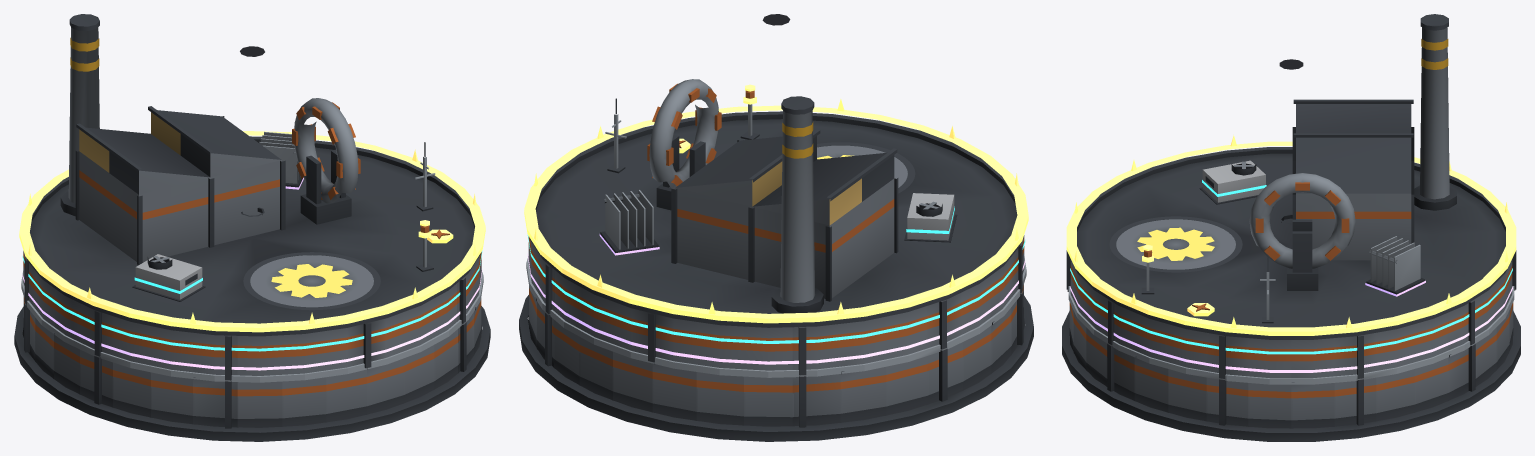
Rendered from magnet_works_s_far.glb.
3 views of the same model, side by side, from view 1: azimuth 30°, elevation 25°; view 2: azimuth 150°, elevation 25°; view 3: azimuth 270°, elevation 25° (orthographic). The views are drawn at different scales.
Visible parts, largest first — view 1: Roof, Base, L5, L3, L2, L4; view 2: Roof, Base, L5, L4, L2, L3; view 3: Roof, Base, L5, L4, L3, L2.
Boxes of the visible parts, left/top/right/bottom form: Roof: left=23, top=14, right=481, bottom=380; Base: left=14, top=296, right=490, bottom=441; L5: left=19, top=131, right=485, bottom=332; L3: left=22, top=207, right=482, bottom=351; L2: left=21, top=142, right=483, bottom=382; L4: left=22, top=131, right=482, bottom=370; Roof: left=528, top=14, right=1024, bottom=375; Base: left=519, top=284, right=1033, bottom=441; L5: left=524, top=84, right=1028, bottom=323; L4: left=527, top=190, right=1025, bottom=364; L2: left=526, top=98, right=1026, bottom=377; L3: left=527, top=193, right=1025, bottom=343; Roof: left=1066, top=14, right=1516, bottom=378; Base: left=1062, top=289, right=1520, bottom=441; L5: left=1066, top=135, right=1516, bottom=335; L4: left=1070, top=236, right=1512, bottom=372; L3: left=1070, top=160, right=1512, bottom=354; L2: left=1068, top=257, right=1514, bottom=384.
Bounding box in the file's own units: 11.74 × 7.92 × 11.74.
